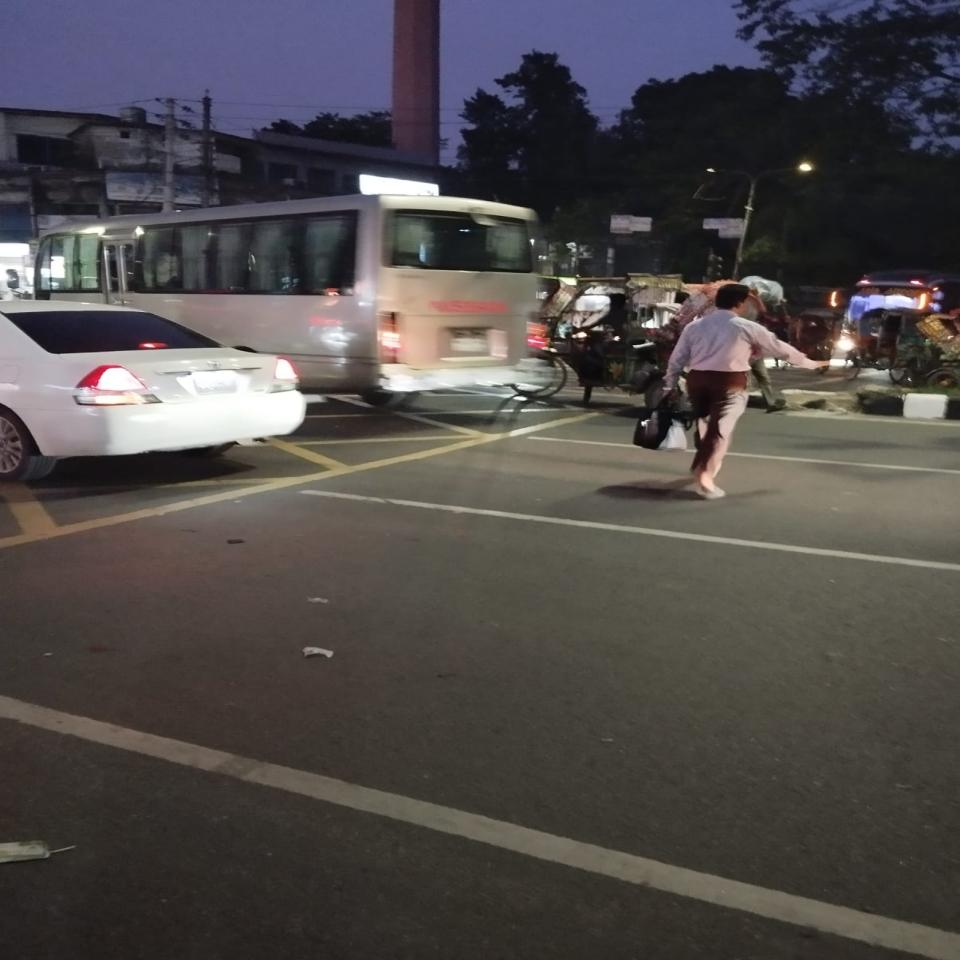person: (661, 283, 828, 500)
